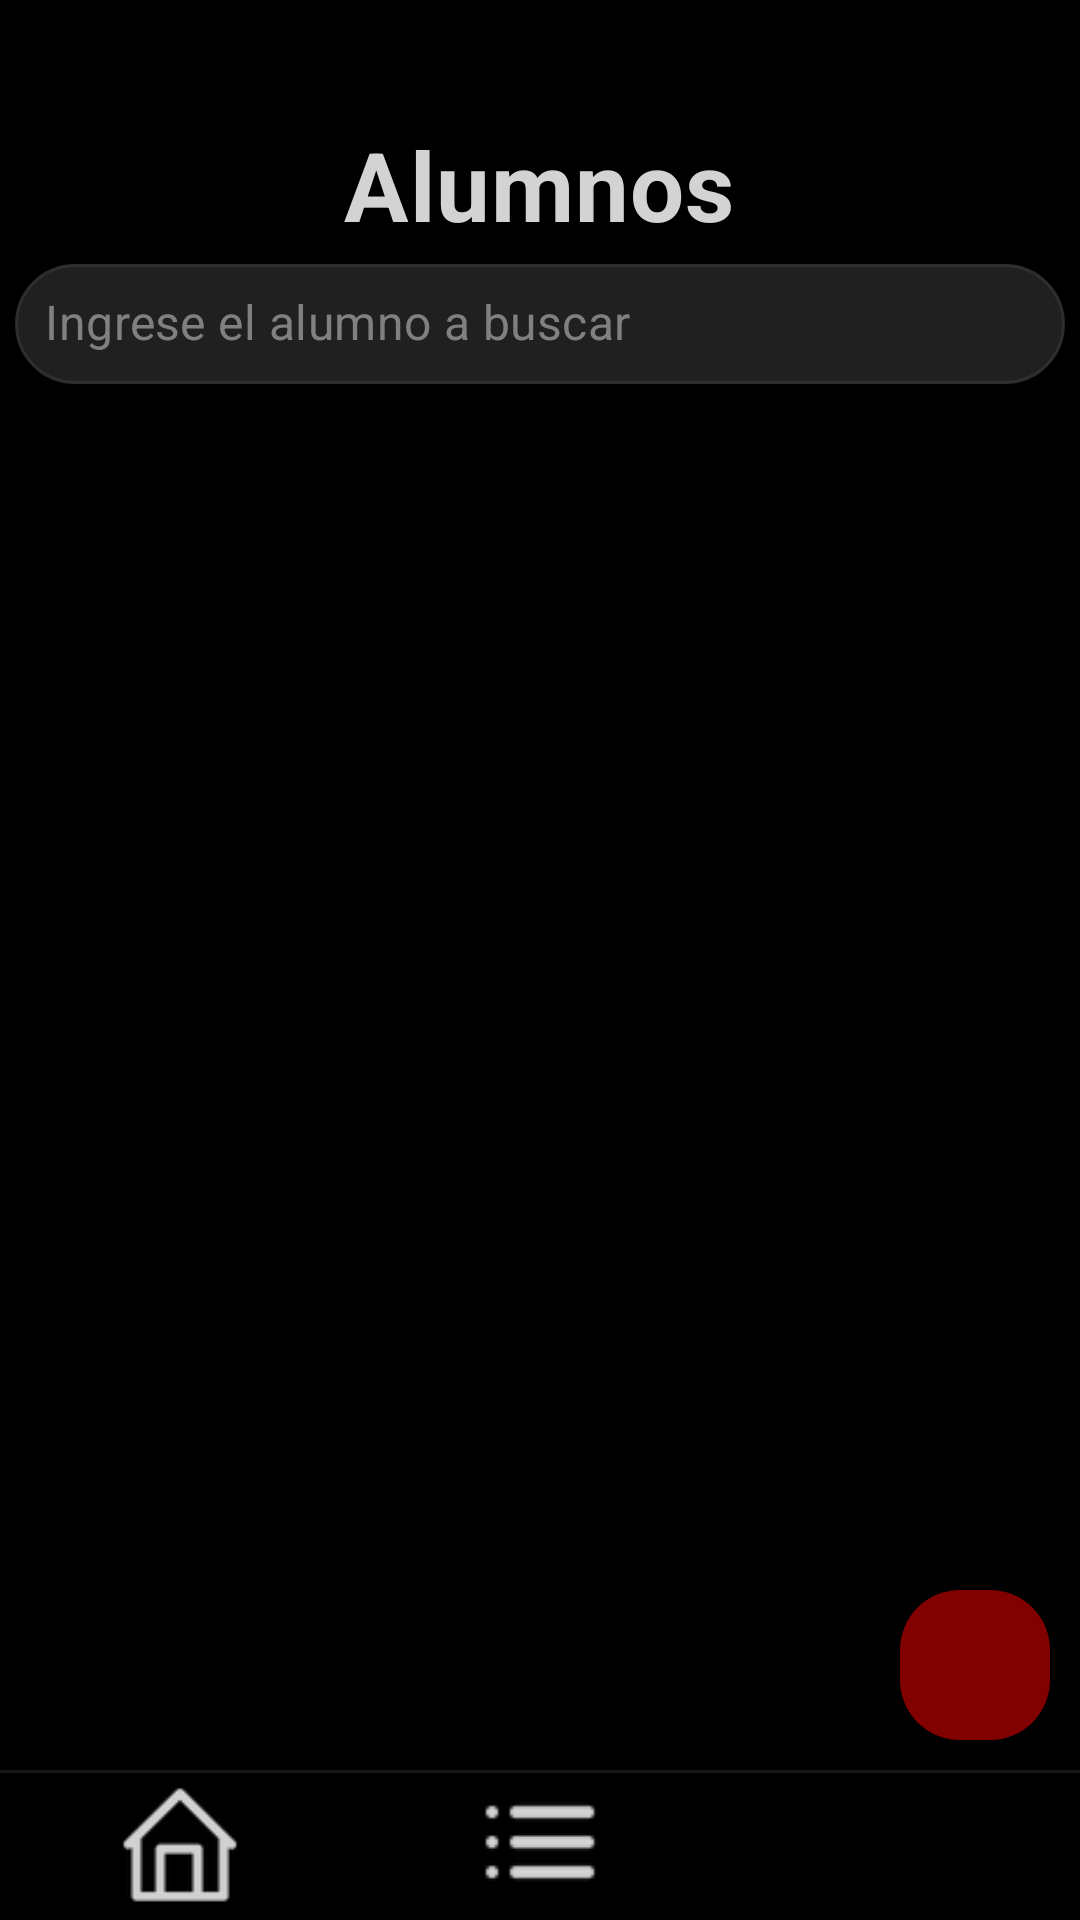

Where to tap for icons on this 1080x1920 app screen, as point (x, y):
home: point (180, 1845)
list: point (540, 1842)
